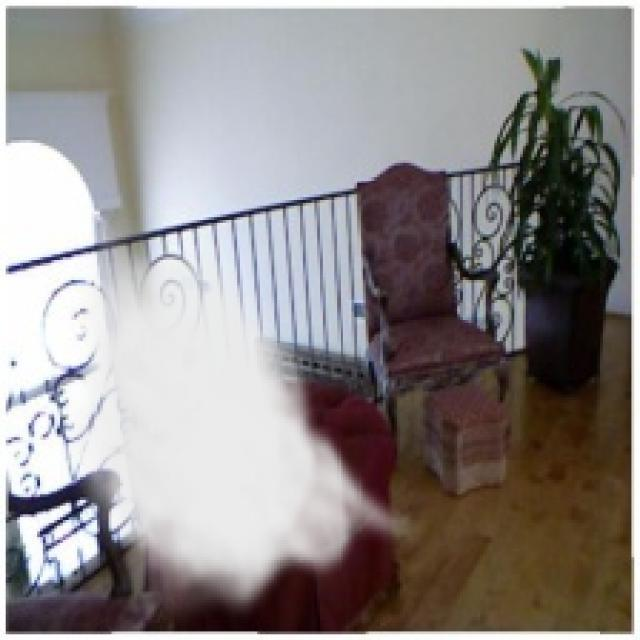Smoke: (60, 217, 426, 623)
